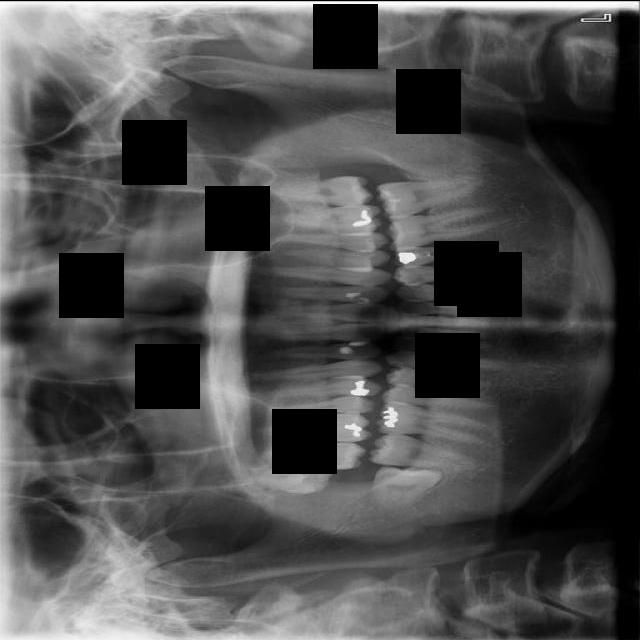3M ESPE Implant: (255, 462, 334, 495)
52: (393, 245, 435, 268), (348, 207, 374, 230), (347, 377, 371, 400), (343, 418, 365, 438), (382, 405, 399, 427), (348, 339, 369, 346), (344, 291, 362, 298), (339, 345, 354, 353), (357, 296, 371, 302)
73: (432, 238, 499, 261), (572, 52, 584, 56)
BioHorizons Implant: (267, 175, 373, 207)
Blue Sky Bio Implant: (374, 176, 472, 220)
Caries: (260, 441, 367, 468)
Implant: (367, 428, 470, 473)
Keystone Dental Implant: (371, 464, 443, 514)
